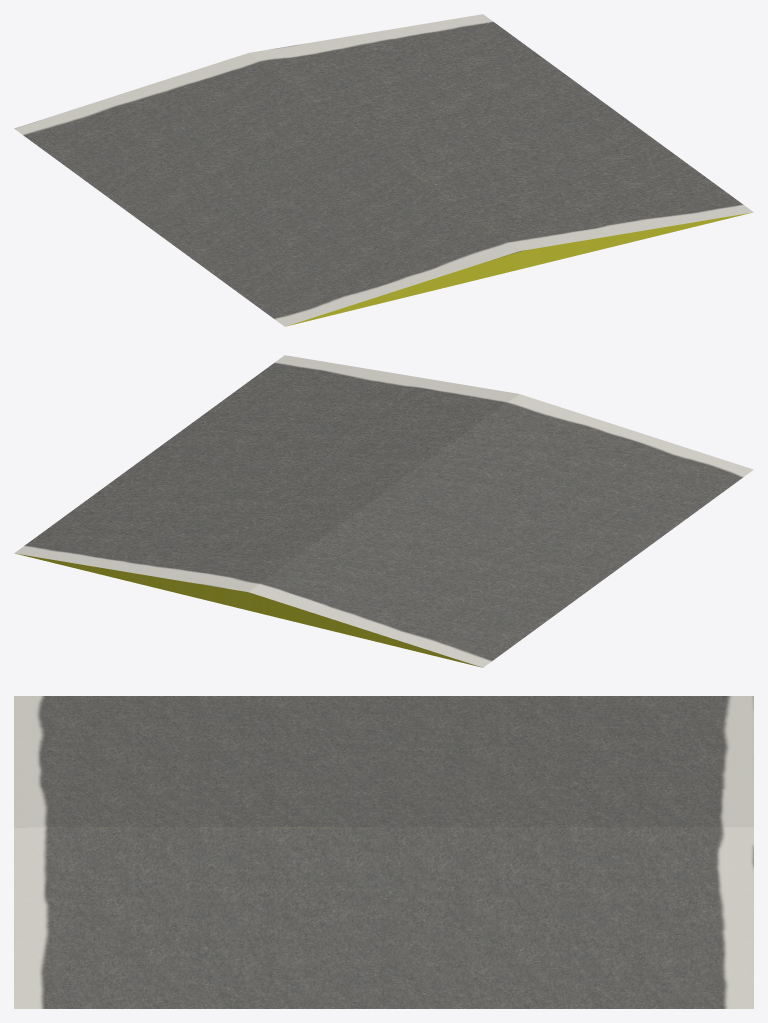
The model's file is RampBaked.glb.
The picture shows the model from 3 angles, top to bottom: view 1: azimuth 30°, elevation 25°; view 2: azimuth 150°, elevation 25°; view 3: azimuth 270°, elevation 25°; orthographic projection. The views are drawn at different scales.
Parts seen in each view (by area): view 1: Cube; view 2: Cube; view 3: Cube.
Boxes of the visible parts, left/top/right/bottom form: Cube: left=14, top=14, right=753, bottom=326; Cube: left=14, top=355, right=753, bottom=667; Cube: left=14, top=696, right=753, bottom=1008.
Size of the model in its own units: 2 by 0.075 by 2.
Materials: 1 (1 with a texture image).
